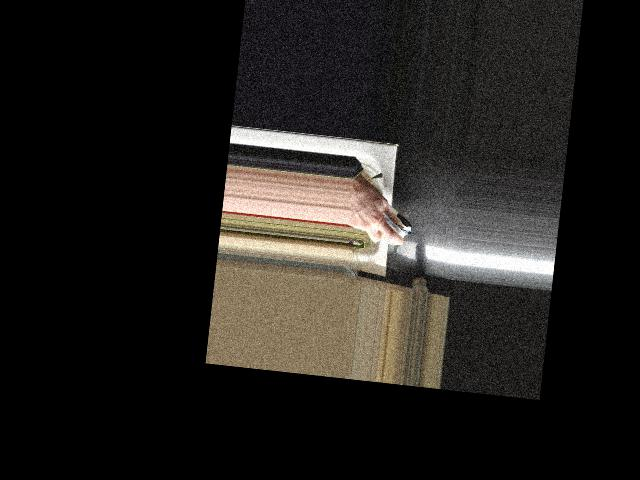cheese: (349, 191, 417, 244)
